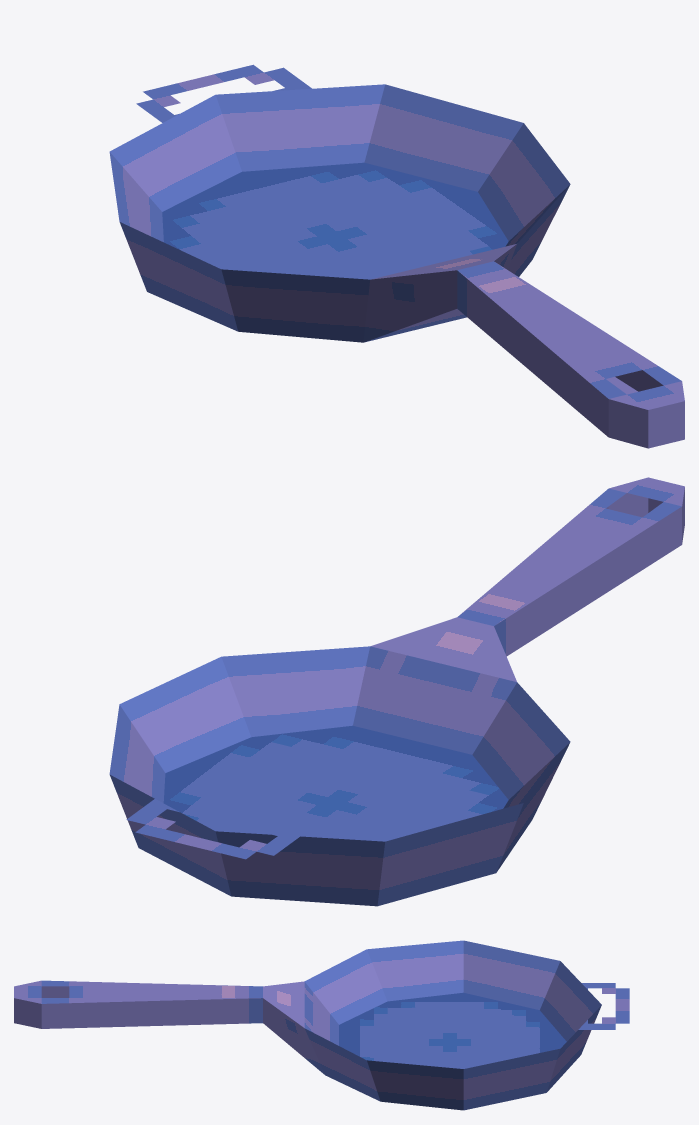
The model's file is pan.obj.
3 views of the same model, one above another, from view 1: azimuth 30°, elevation 25°; view 2: azimuth 150°, elevation 25°; view 3: azimuth 270°, elevation 25° (orthographic). The views are drawn at different scales.
Visible parts, largest first — view 1: pan; view 2: pan; view 3: pan.
Part boxes in pixels (left/top/right/bottom): pan: left=109, top=64, right=684, bottom=448; pan: left=109, top=477, right=684, bottom=906; pan: left=14, top=940, right=629, bottom=1110.
Bounding box in the file's own units: 1.38 × 0.3125 × 3.03.
Materials: 1 (1 with a texture image).
